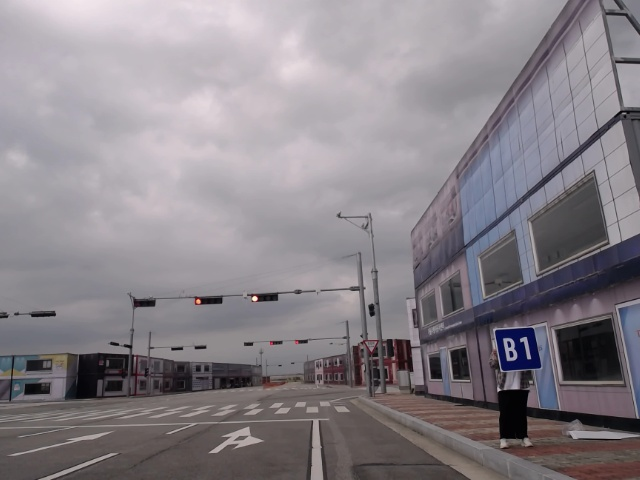delivery_b1: (494, 327, 543, 372)
red_4: (194, 296, 223, 305), (250, 293, 278, 302), (270, 341, 283, 345), (295, 340, 308, 344)
